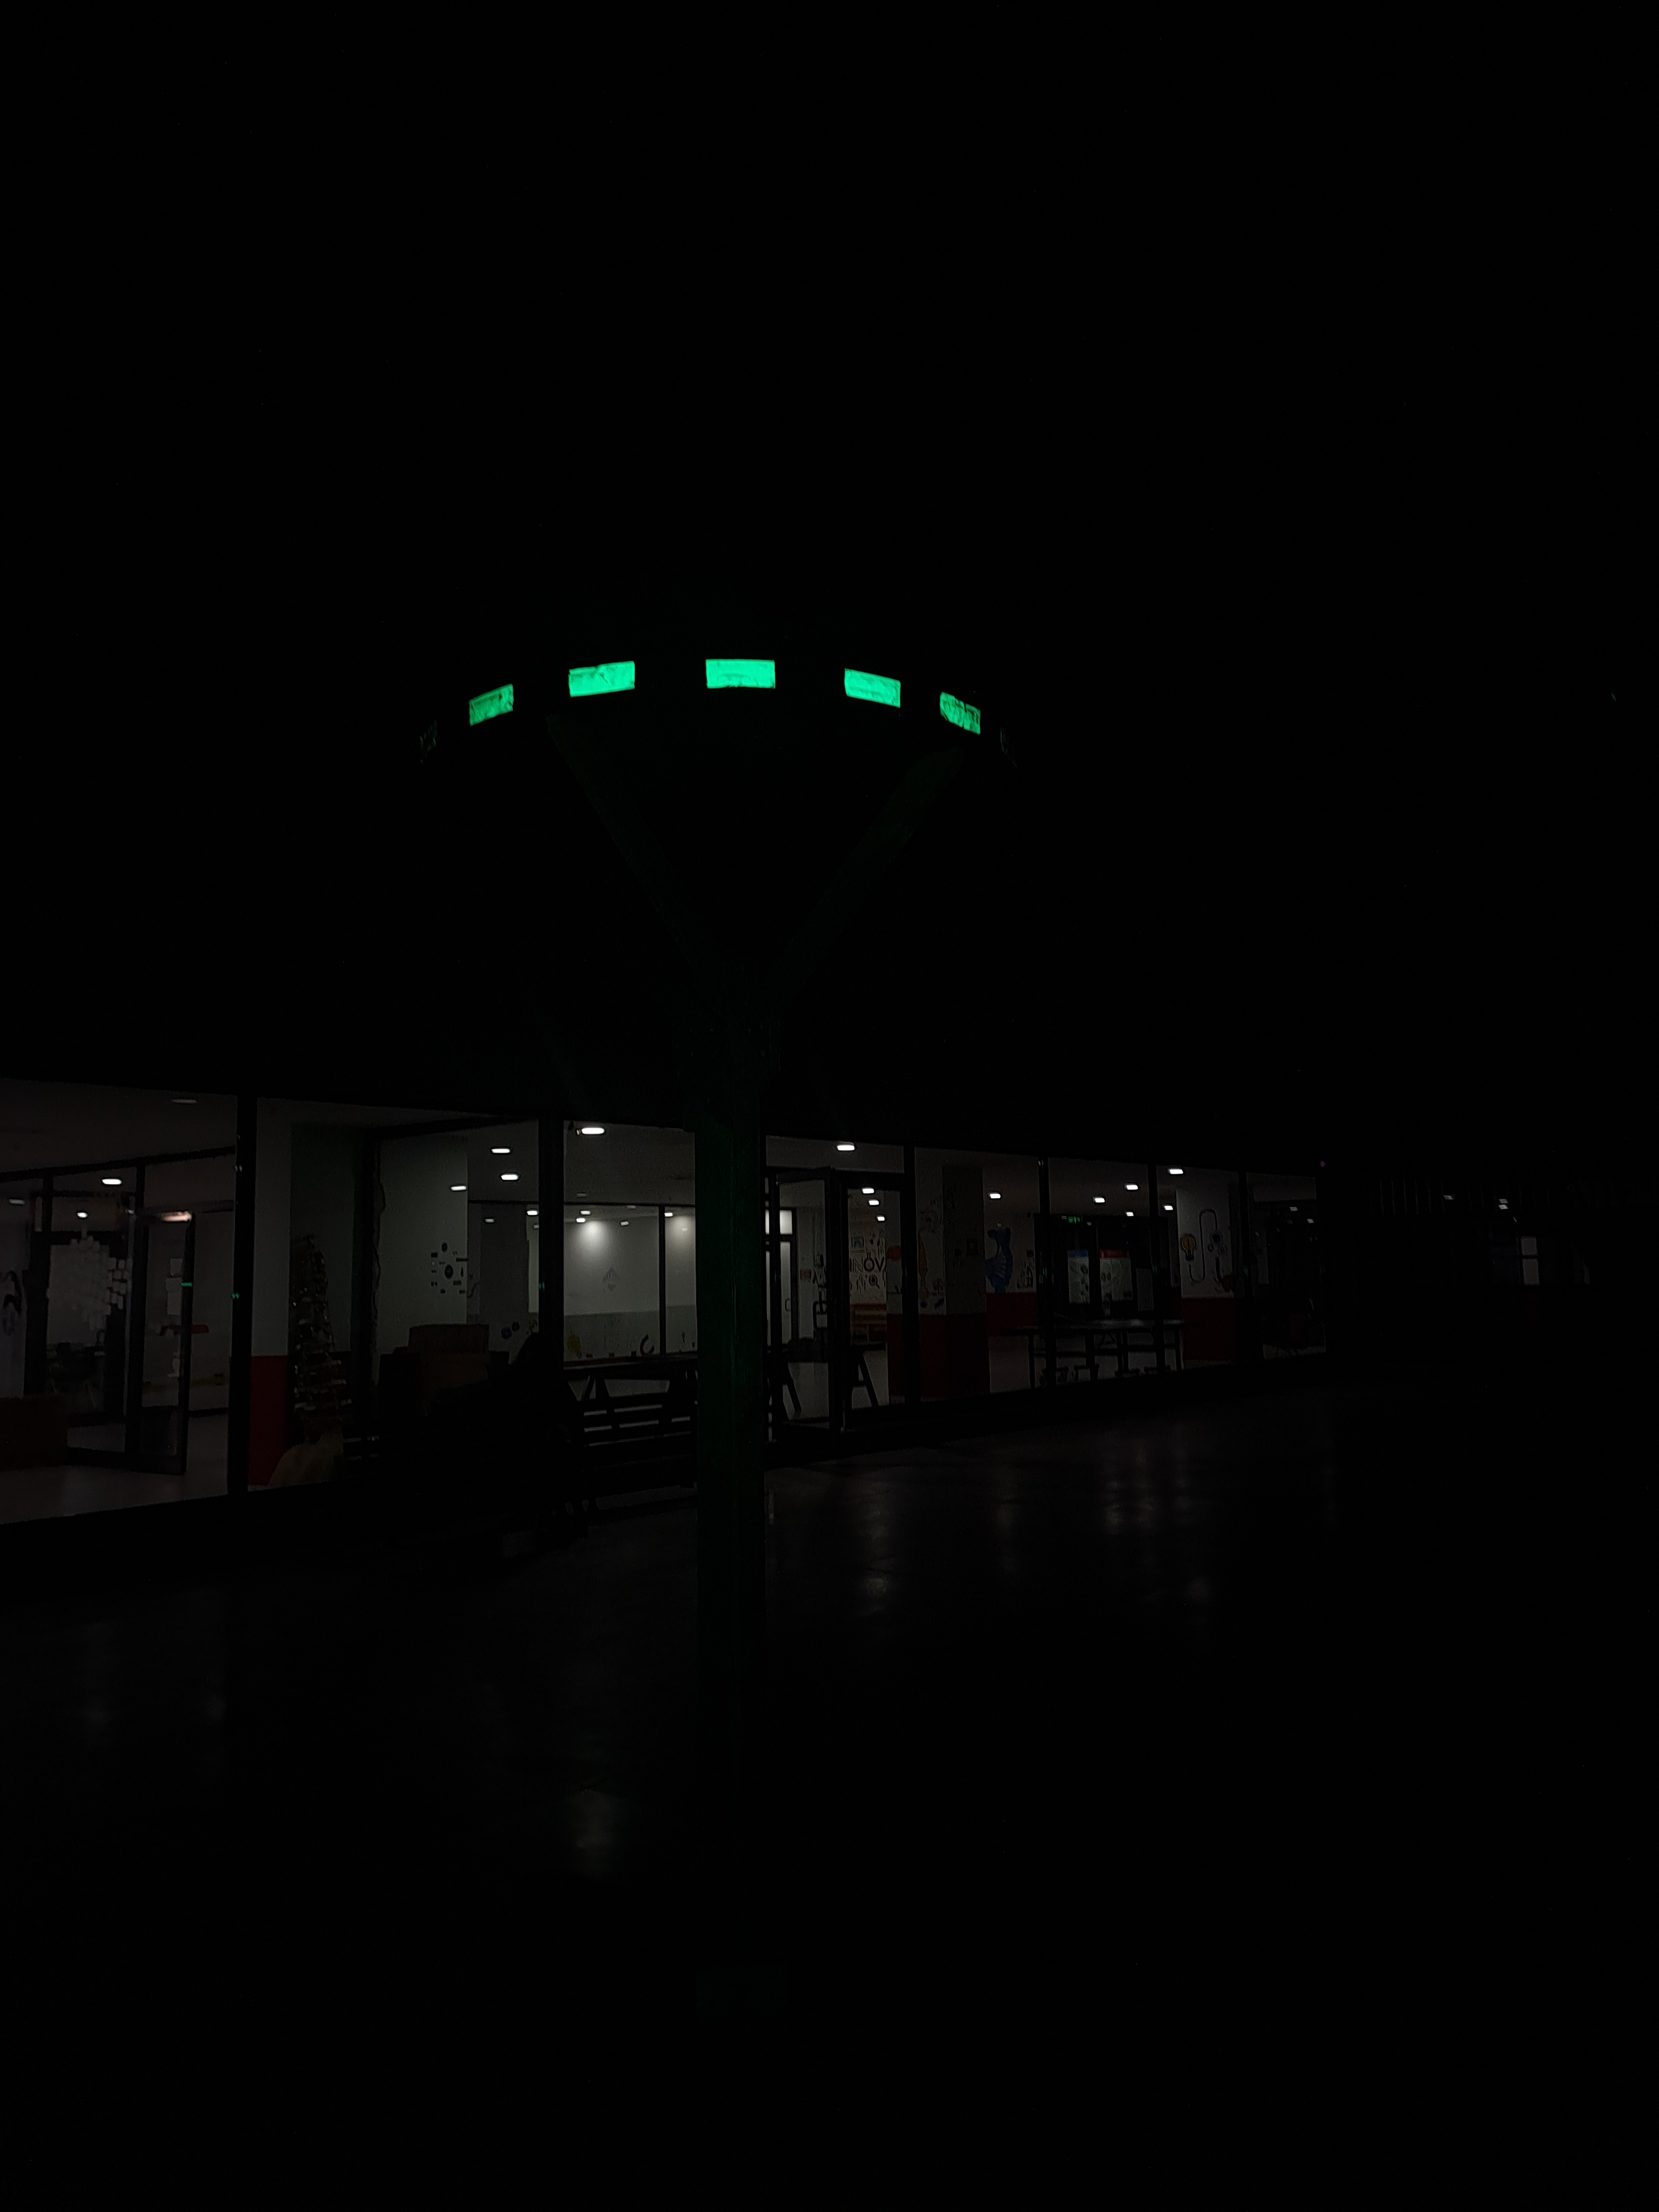hoop: (446, 653, 993, 759)
